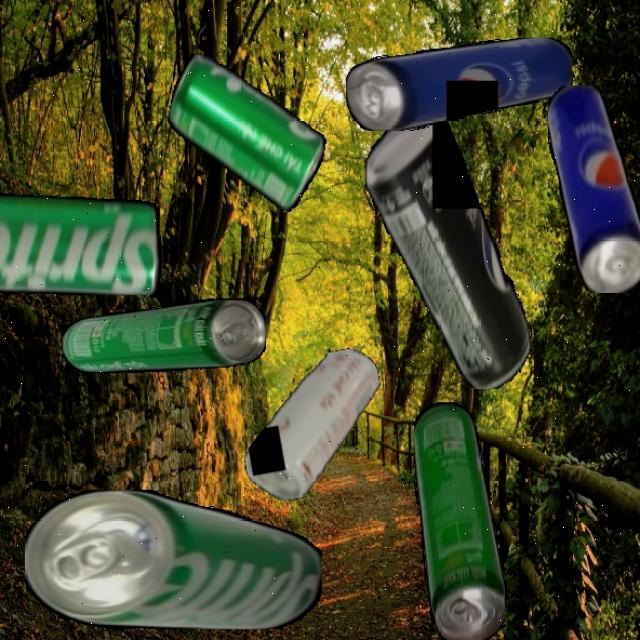debris: (363, 109, 532, 389), (25, 489, 322, 629), (157, 52, 336, 215), (229, 345, 397, 506), (413, 401, 505, 640), (0, 160, 162, 295), (346, 37, 572, 131), (547, 84, 640, 293), (62, 298, 266, 373)
